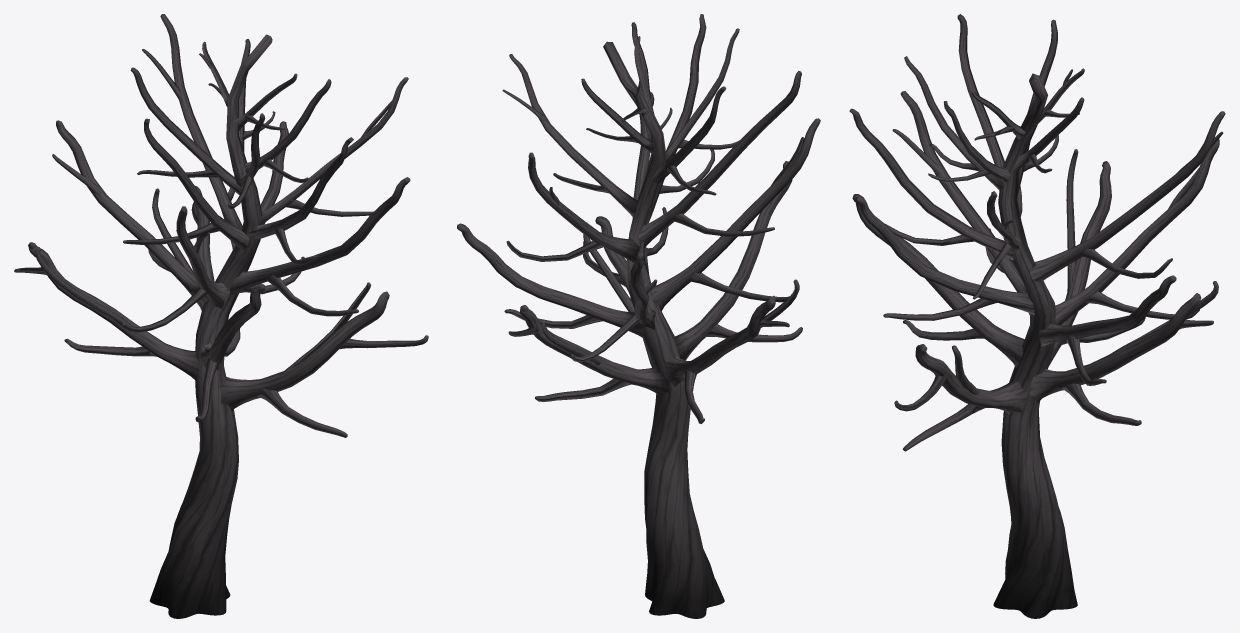
Rendered from DeadTree_1.gltf.
The picture shows the model from 3 angles, left to right: view 1: azimuth 30°, elevation 25°; view 2: azimuth 150°, elevation 25°; view 3: azimuth 270°, elevation 25°; orthographic projection. The views are drawn at different scales.
Visible parts, largest first — view 1: DeadTree_1; view 2: DeadTree_1; view 3: DeadTree_1.
Boxes of the visible parts, x1=… form: DeadTree_1: x1=14, y1=14, x2=428, y2=618; DeadTree_1: x1=457, y1=14, x2=820, y2=618; DeadTree_1: x1=849, y1=14, x2=1225, y2=618.
Bounding box in the file's own units: 6.15 × 9.5 × 5.75.
Materials: 1 (1 with a texture image).
